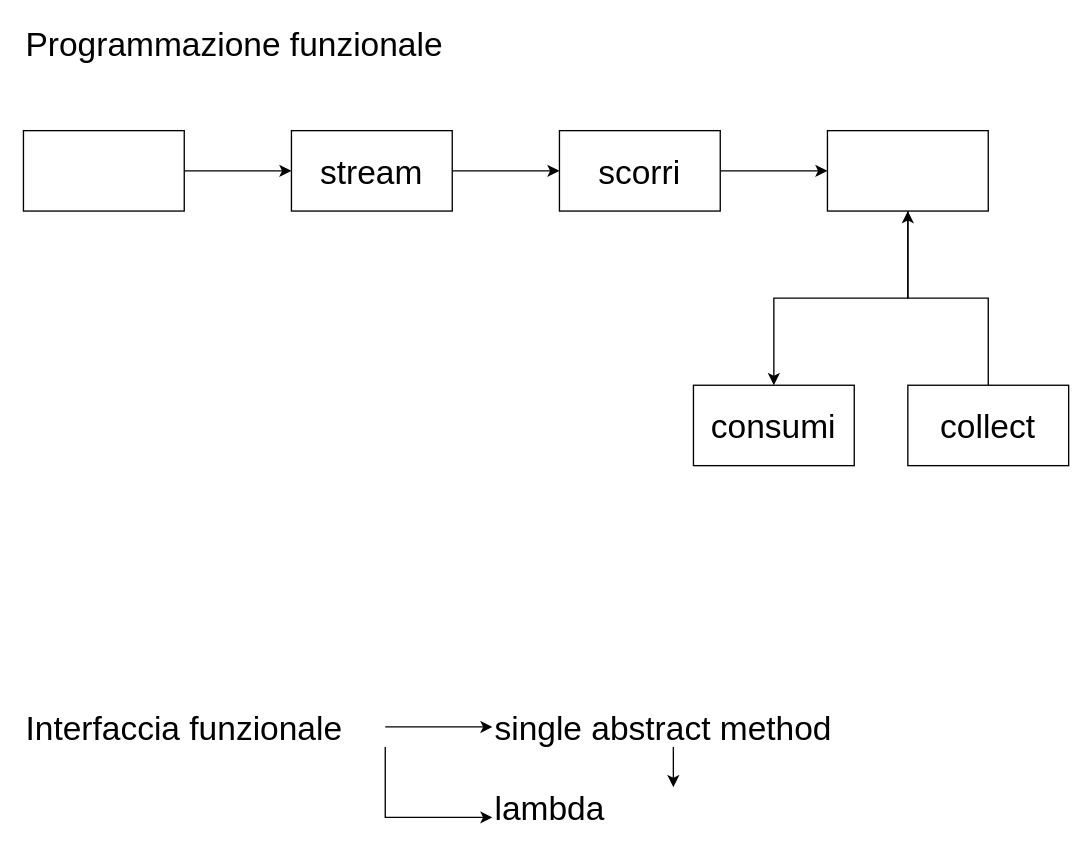
Some shapes in this 1092 by 851 pixel diagram are drawn without their labels. The shapes that lost their labels are listed below. From the top down, each one's centre as x and y in pixels, then its label:
At pixel 103 170: "collezione".
At pixel 907 170: "processi".
